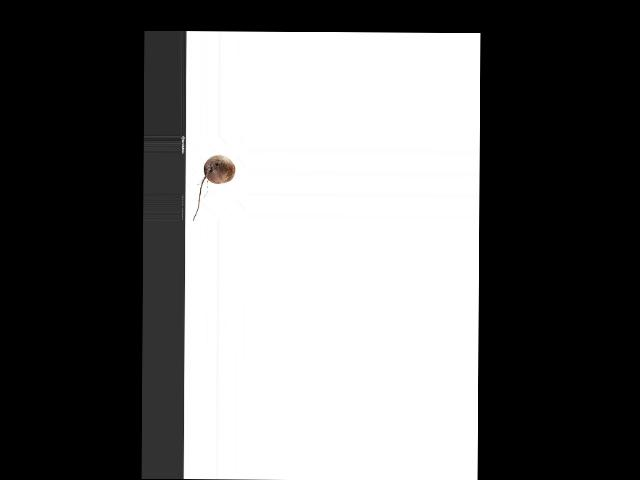beet: (192, 155, 235, 221)
